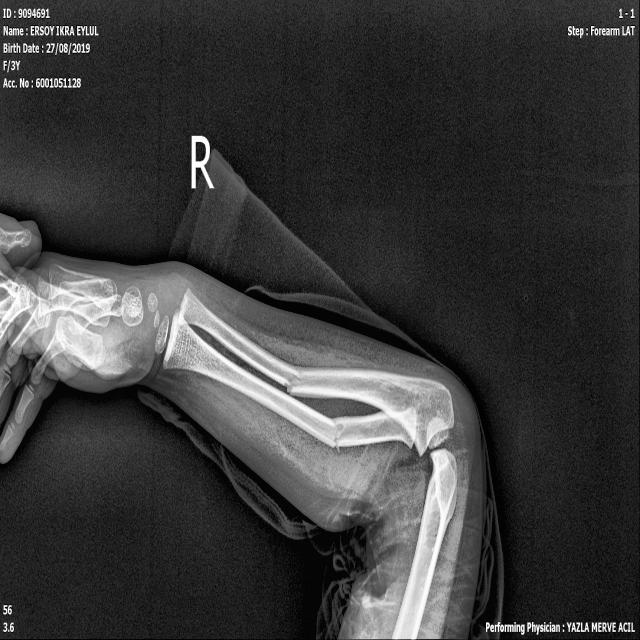Fracture: (280, 355, 305, 399), (327, 410, 348, 459)
